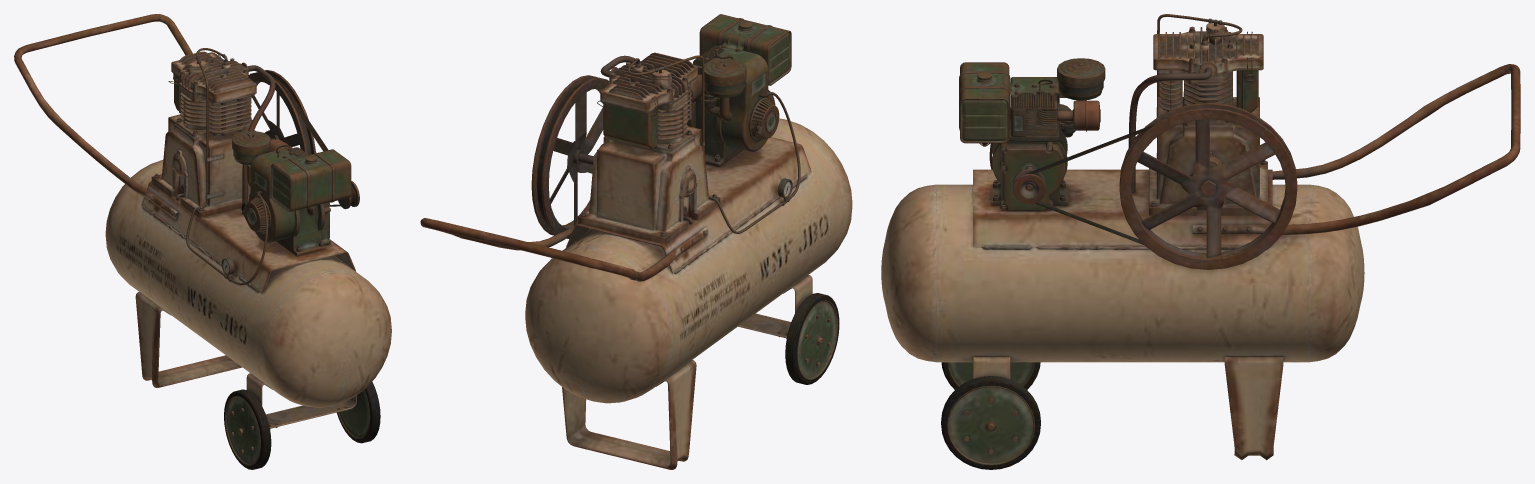
The picture shows the model from 3 angles, left to right: view 1: azimuth 30°, elevation 25°; view 2: azimuth 150°, elevation 25°; view 3: azimuth 270°, elevation 25°; orthographic projection. The views are drawn at different scales.
Parts seen in each view (by area): view 1: old_military_compressor; view 2: old_military_compressor; view 3: old_military_compressor.
Part boxes in pixels (box(x1,y1,x2,y2)): old_military_compressor: box(14, 14, 391, 469); old_military_compressor: box(420, 14, 852, 469); old_military_compressor: box(881, 14, 1520, 469).
Size of the model in its own units: 0.5983 by 1.18 by 1.68.
Materials: 2 (2 with a texture image).
